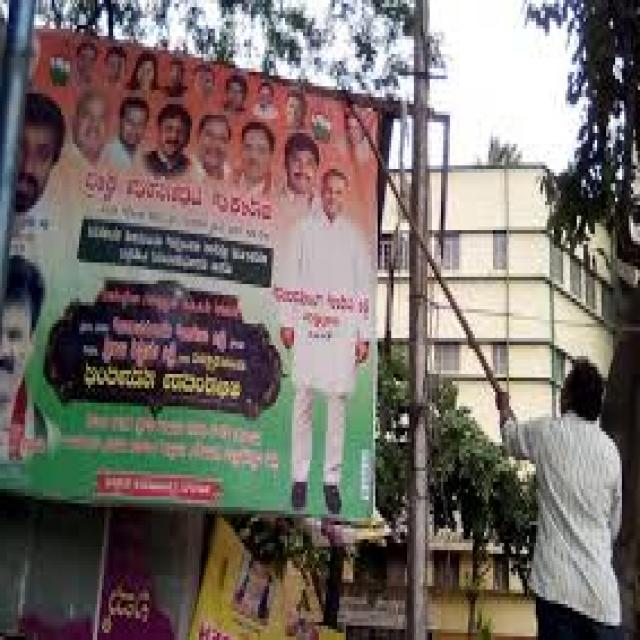Werbetafel frei: (15, 46, 379, 508)
